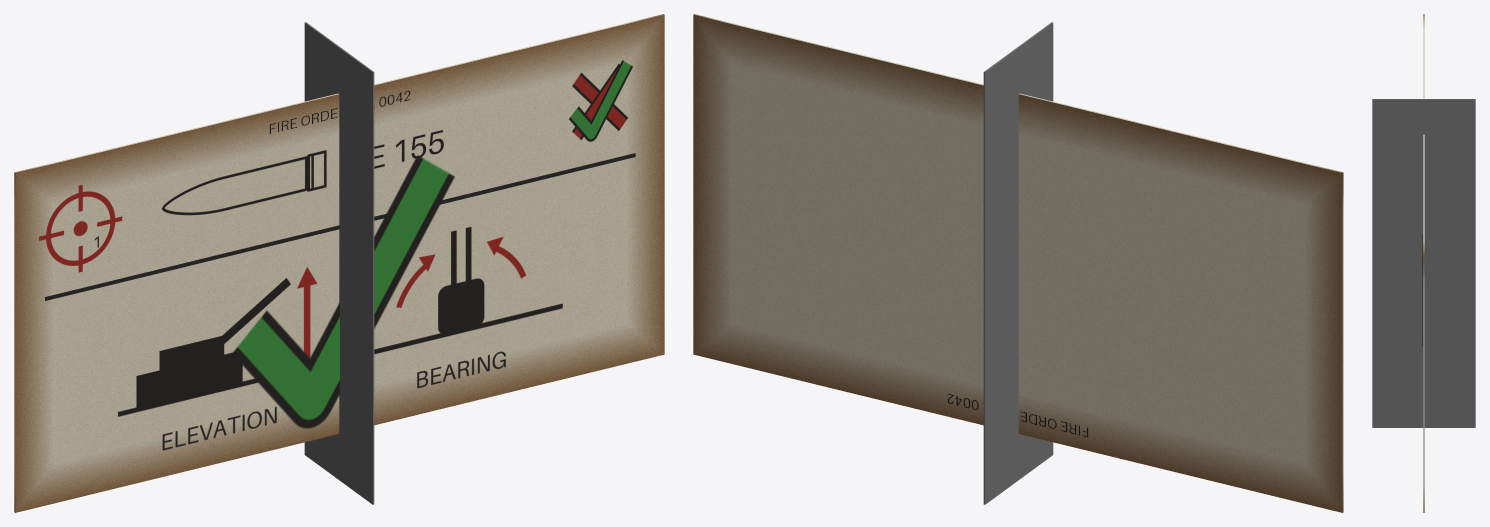
The model's file is TexturedCard.glb.
The picture shows the model from 3 angles, left to right: view 1: azimuth 30°, elevation 25°; view 2: azimuth 150°, elevation 25°; view 3: azimuth 270°, elevation 25°; orthographic projection. The views are drawn at different scales.
Parts seen in each view (by area): view 1: Card, Guide, Large Check, Diagram, Divider, Shell, Target, Check, Cross; view 2: Card, Guide; view 3: Guide, Card.
Part boxes in pixels (x1,y1,x2,y2): Card: (14,14,664,512); Guide: (304,22,374,504); Large Check: (232,155,454,428); Diagram: (118,227,562,450); Divider: (45,153,635,300); Shell: (162,130,443,215); Target: (39,184,122,272); Check: (569,60,632,141); Cross: (572,63,627,139); Card: (693,14,1343,512); Guide: (983,22,1053,504); Guide: (1372,99,1475,427); Card: (1423,14,1424,512).
Size of the model in its own units: 0.22 by 0.14 by 0.04.
Materials: 8 (6 with a texture image).
